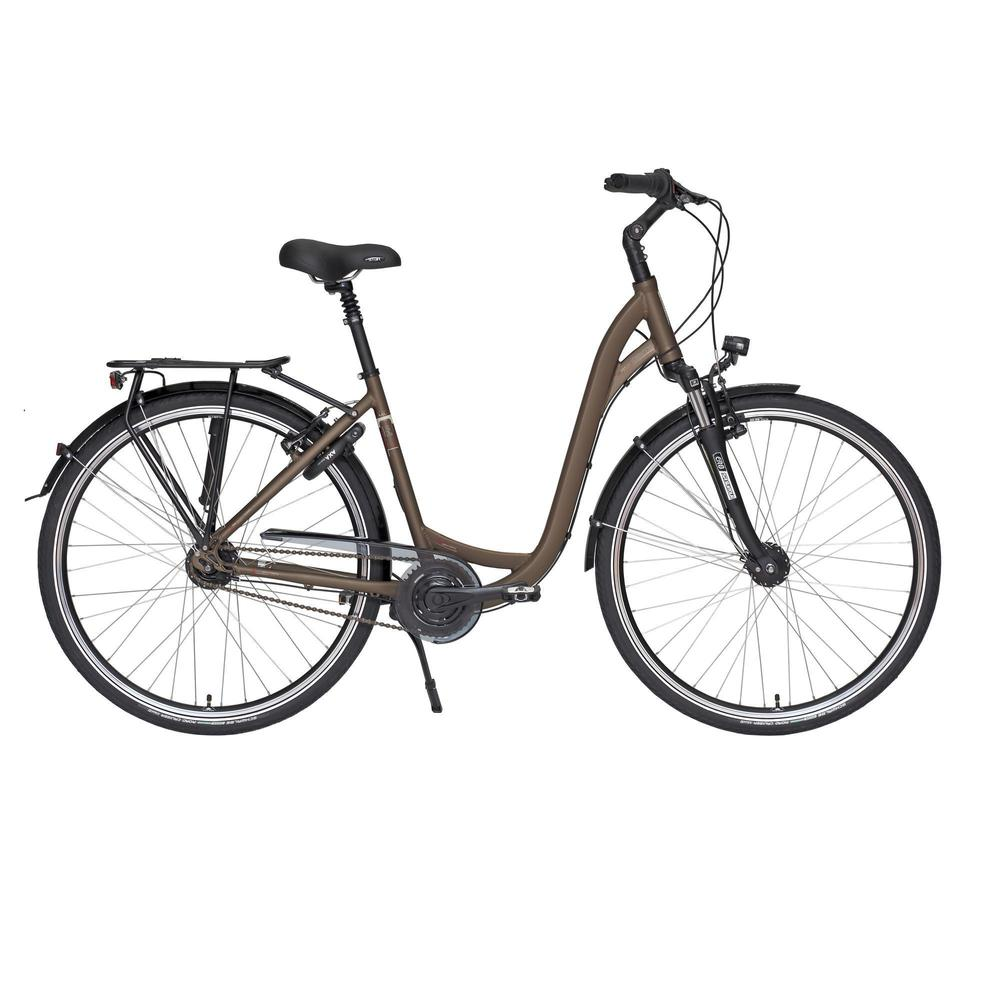UrbanBike: (42, 153, 928, 719)
